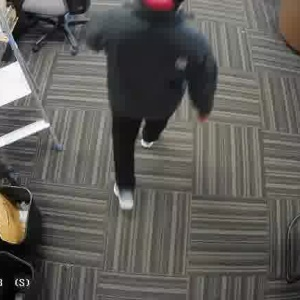person: (92, 0, 202, 205)
